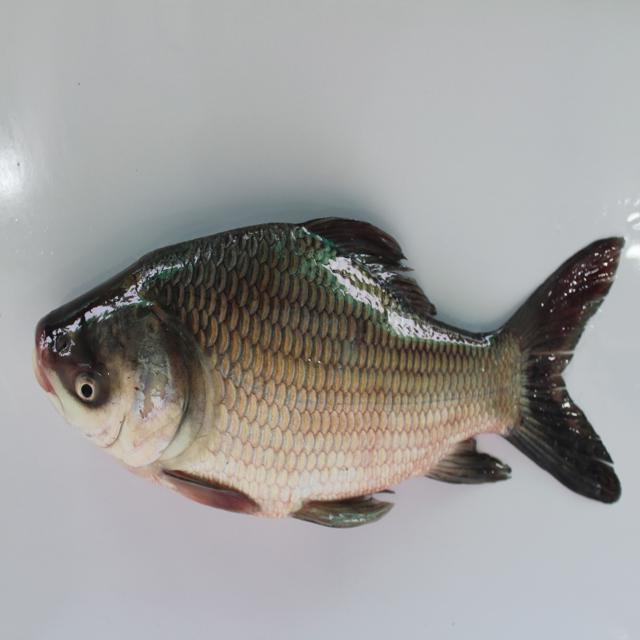Catla: (16, 208, 633, 542)
